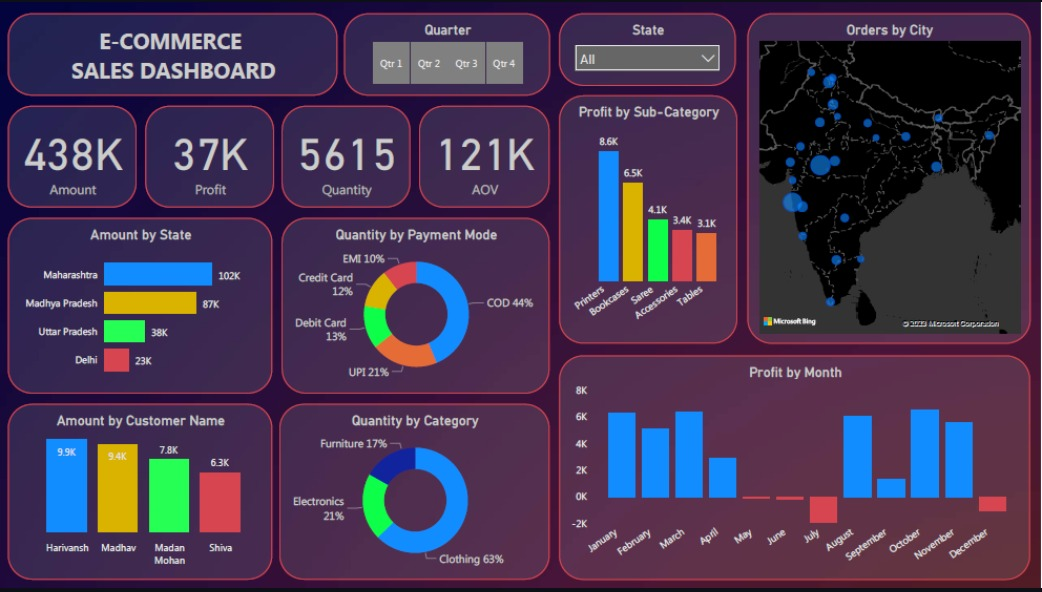

This screenshot's page, from the dashboard's own definition file:
{"tool":"powerbi","page":{"name":"SALES DASHBOARD","canvas":[1280,720],"ordinal":0},"visuals":[{"type":"textbox","box":[9.9,14.2,404.7,100.8],"z":0},{"type":"columnChart","fields":{"Y":["Sum(Details.Profit)"],"Category":["Orders.Order Date.Variation.Date Hierarchy.Month"]},"box":[687.3,434.6,579.4,275.5],"z":1000},{"type":"columnChart","fields":{"Category":["Details.Sub-Category"],"Y":["Sum(Details.Profit)"]},"box":[687.3,115,218.7,305.3],"z":2000},{"type":"donutChart","fields":{"Category":["Details.Category"],"Y":["Sum(Details.Quantity)"]},"box":[343.7,494.2,332.3,215.9],"z":3000},{"type":"donutChart","fields":{"Y":["Sum(Details.Quantity)"],"Category":["Details.PaymentMode"]},"box":[346.5,265.6,329.5,215.9],"z":4000},{"type":"card","fields":{"Values":["Sum(Details.Amount)"]},"box":[9.9,127.8,157.6,125],"z":5000},{"type":"card","fields":{"Values":["Sum(Details.Profit)"]},"box":[178.5,127.8,157.6,125],"z":6000},{"type":"card","fields":{"Values":["Sum(Details.Quantity)"]},"box":[347,127.8,157.6,125],"z":7000},{"type":"card","fields":{"Values":["Sum(Details.AOV)"]},"box":[515.5,127.8,160.5,125],"z":8000},{"type":"barChart","fields":{"Category":["Orders.State"],"Y":["Sum(Details.Amount)"]},"box":[9.9,265.6,325.2,215.9],"z":9000},{"type":"columnChart","fields":{"Category":["Orders.Customer Name"],"Y":["Sum(Details.Amount)"]},"box":[10,494.2,325,216],"z":10000},{"type":"slicer","title":"Quarter","fields":{"Values":["Orders.Order Date.Variation.Date Hierarchy.Quarter"]},"box":[423.2,14.2,252.8,100.8],"z":11000},{"type":"slicer","title":"State","fields":{"Values":["Orders.State"]},"box":[687.3,14.2,217.3,89.5],"z":12000},{"type":"map","title":"Orders by City","fields":{"Category":["Orders.City"],"Size":["CountNonNull(Orders.Order ID)"]},"box":[918.8,14.2,347.9,406.2],"z":13000}]}

Visuals, with their boxes in screenshot pixels (x1, y1, x2, y2), scaled from the page's 1280x720 canvas onto the 1042x592 screenshot:
textbox: [x1=8, y1=12, x2=338, y2=95]
columnChart - Sum(Details.Profit) x Orders.Order Date.Variation.Date Hierarchy.Month: [x1=560, y1=357, x2=1031, y2=584]
columnChart - Details.Sub-Category x Sum(Details.Profit): [x1=560, y1=95, x2=738, y2=346]
donutChart - Details.Category x Sum(Details.Quantity): [x1=280, y1=406, x2=550, y2=584]
donutChart - Sum(Details.Quantity) x Details.PaymentMode: [x1=282, y1=218, x2=550, y2=396]
card - Sum(Details.Amount): [x1=8, y1=105, x2=136, y2=208]
card - Sum(Details.Profit): [x1=145, y1=105, x2=274, y2=208]
card - Sum(Details.Quantity): [x1=282, y1=105, x2=411, y2=208]
card - Sum(Details.AOV): [x1=420, y1=105, x2=550, y2=208]
barChart - Orders.State x Sum(Details.Amount): [x1=8, y1=218, x2=273, y2=396]
columnChart - Orders.Customer Name x Sum(Details.Amount): [x1=8, y1=406, x2=273, y2=584]
"Quarter" slicer: [x1=345, y1=12, x2=550, y2=95]
"State" slicer: [x1=560, y1=12, x2=736, y2=85]
"Orders by City" map: [x1=748, y1=12, x2=1031, y2=346]
